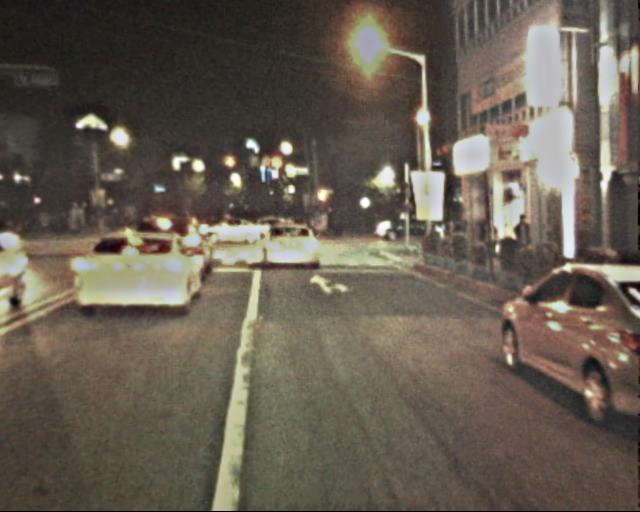person: (38, 204, 128, 234), (512, 213, 539, 279), (482, 218, 502, 266)
